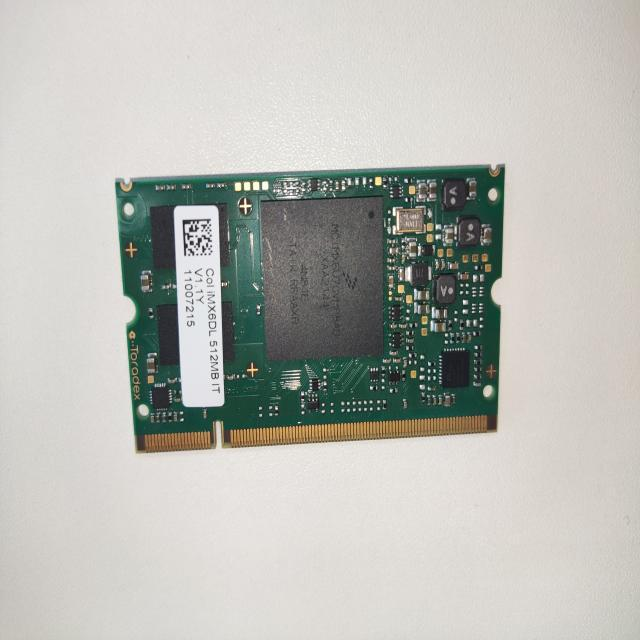som: (101, 156, 516, 464)
